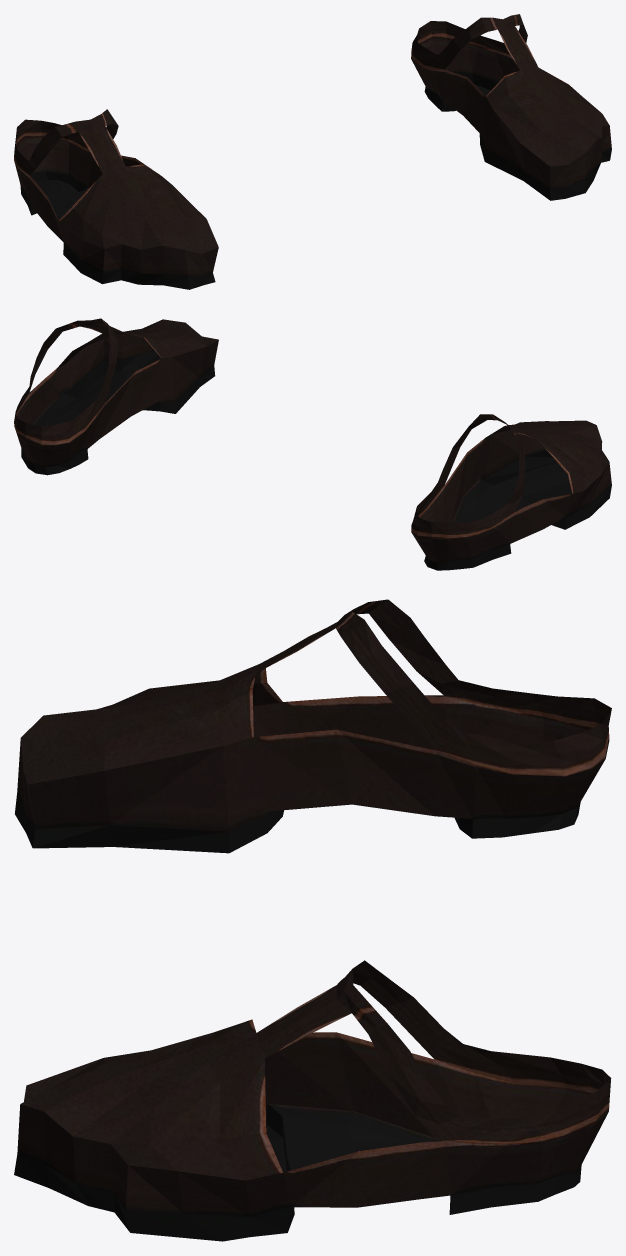
The model's file is mhw_cortu_t-bar.glb.
The picture shows the model from 3 angles, top to bottom: view 1: azimuth 30°, elevation 25°; view 2: azimuth 150°, elevation 25°; view 3: azimuth 270°, elevation 25°; orthographic projection. The views are drawn at different scales.
Parts seen in each view (by area): view 1: mhw_cortu_t-bar; view 2: mhw_cortu_t-bar; view 3: mhw_cortu_t-bar.
Boxes of the visible parts, x1,y1,x2,y2 form: mhw_cortu_t-bar: (14,14,611,289); mhw_cortu_t-bar: (14,318,611,570); mhw_cortu_t-bar: (14,599,611,1241).
Bounding box in the file's own units: 0.5386 × 0.117 × 0.287.
Materials: 1 (1 with a texture image).
